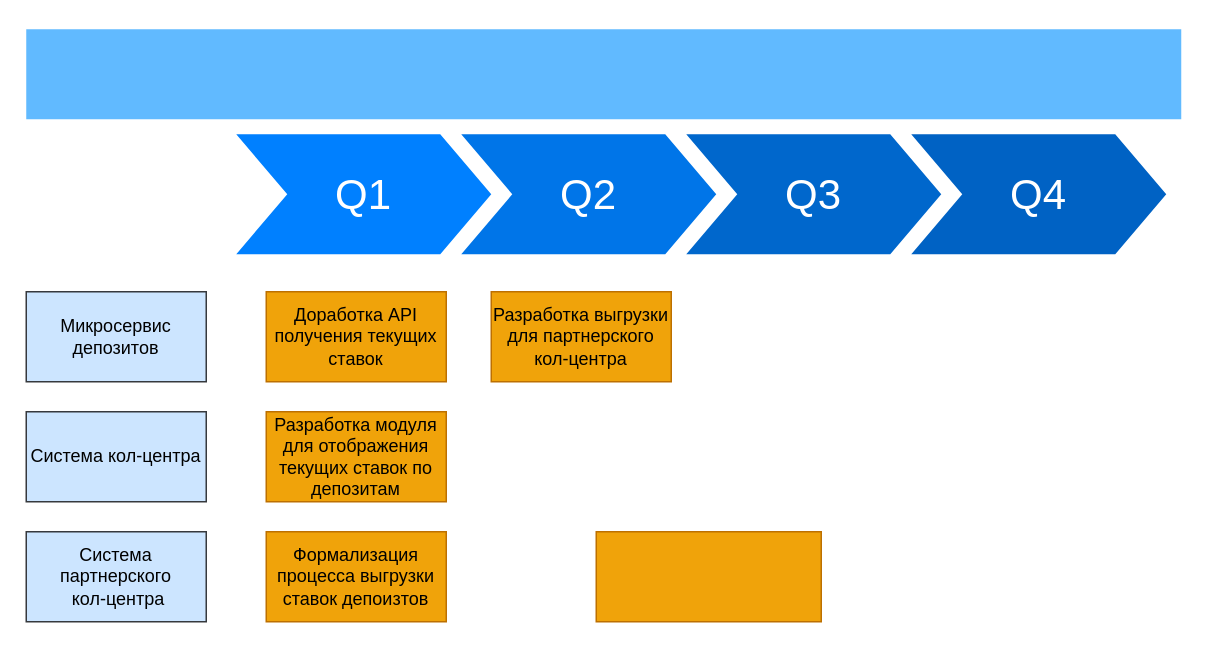
The diagram is 1208 pixels wide and 648 high, and some of its shapes have lost their labels. The box of each missing label's shape, as (x1, y1, x2, y2) in pixels:
Roadmap: (26, 28, 1180, 118)
Разработка поддержки выгрузкок ставок по депозитам: (595, 530, 821, 622)
